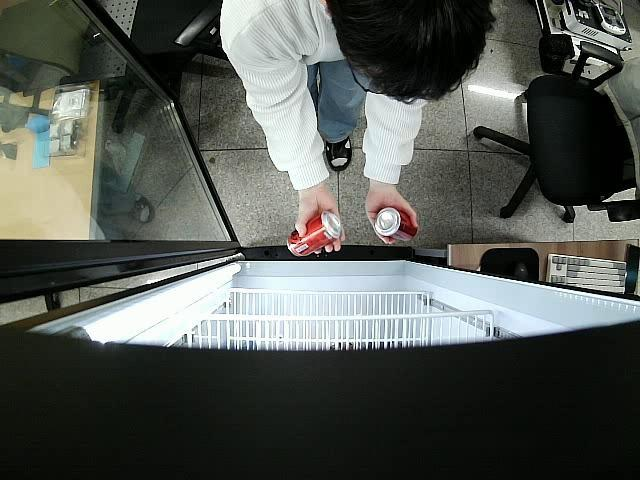11_cocaColaZero: (286, 212, 339, 256), (372, 204, 418, 244)
